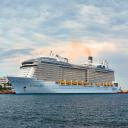cruises: (7, 51, 122, 96)
